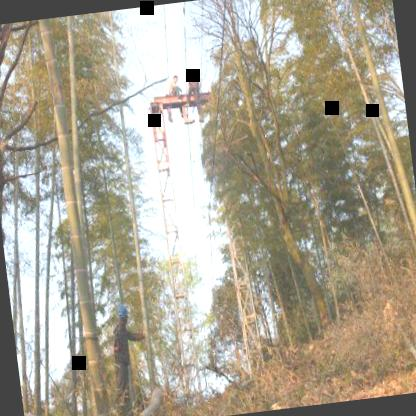helmet: (113, 301, 129, 325)
